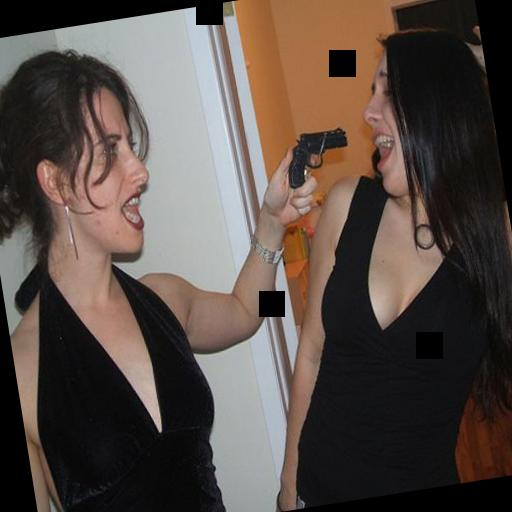Handgun: (280, 120, 352, 192)
